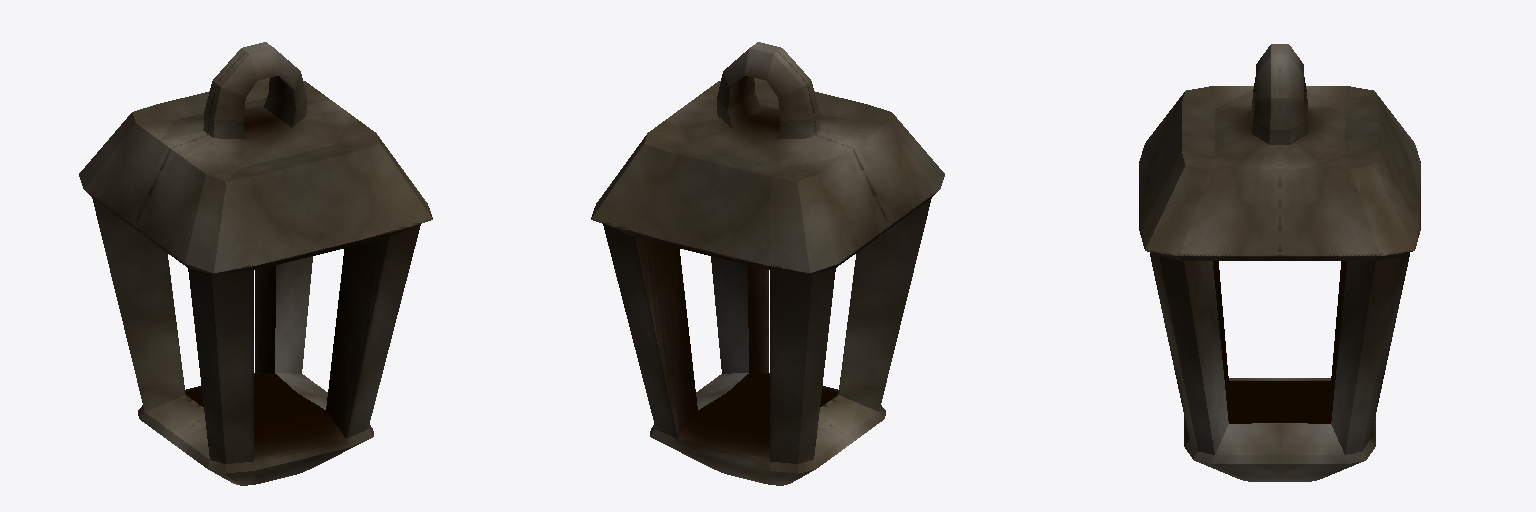
3 renders of one model, left to right at view 1: azimuth 30°, elevation 25°; view 2: azimuth 150°, elevation 25°; view 3: azimuth 270°, elevation 25°, orthographic.
Visible parts, largest first — view 1: lantern:Mesh1; view 2: lantern:Mesh1; view 3: lantern:Mesh1.
Boxes of the visible parts, x1=… form: lantern:Mesh1: x1=79, y1=42, x2=432, y2=485; lantern:Mesh1: x1=591, y1=42, x2=944, y2=485; lantern:Mesh1: x1=1139, y1=44, x2=1420, y2=481.
Bounding box in the file's own units: 0.6125 × 0.9977 × 0.6125.
1 materials, 1 textured.